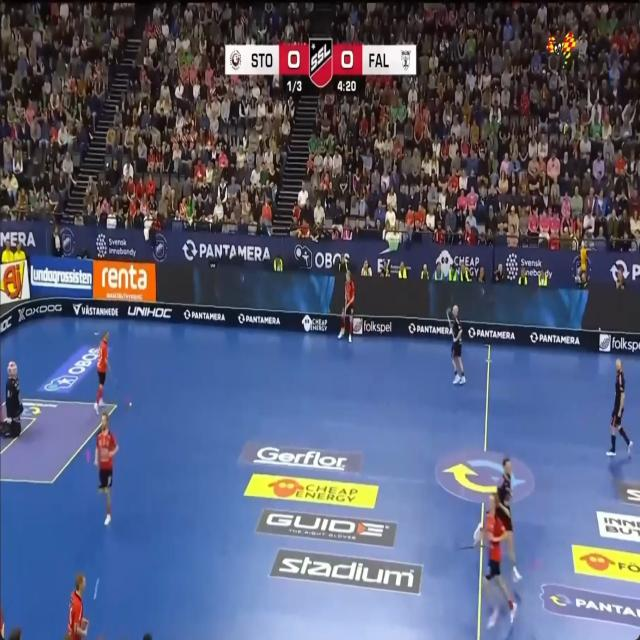Balls: (128, 402, 131, 407)
player: (483, 496, 517, 622), (496, 457, 521, 581), (95, 412, 118, 525), (606, 358, 632, 455), (447, 306, 465, 384), (67, 573, 88, 639), (338, 271, 355, 341), (94, 333, 108, 414), (487, 604, 499, 628)
